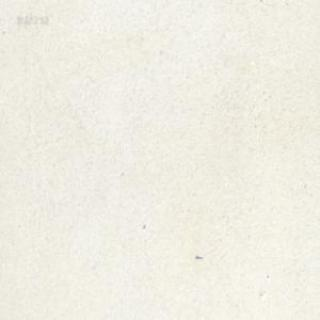Nailtrack_idkeyframe: (195, 253, 202, 258)
